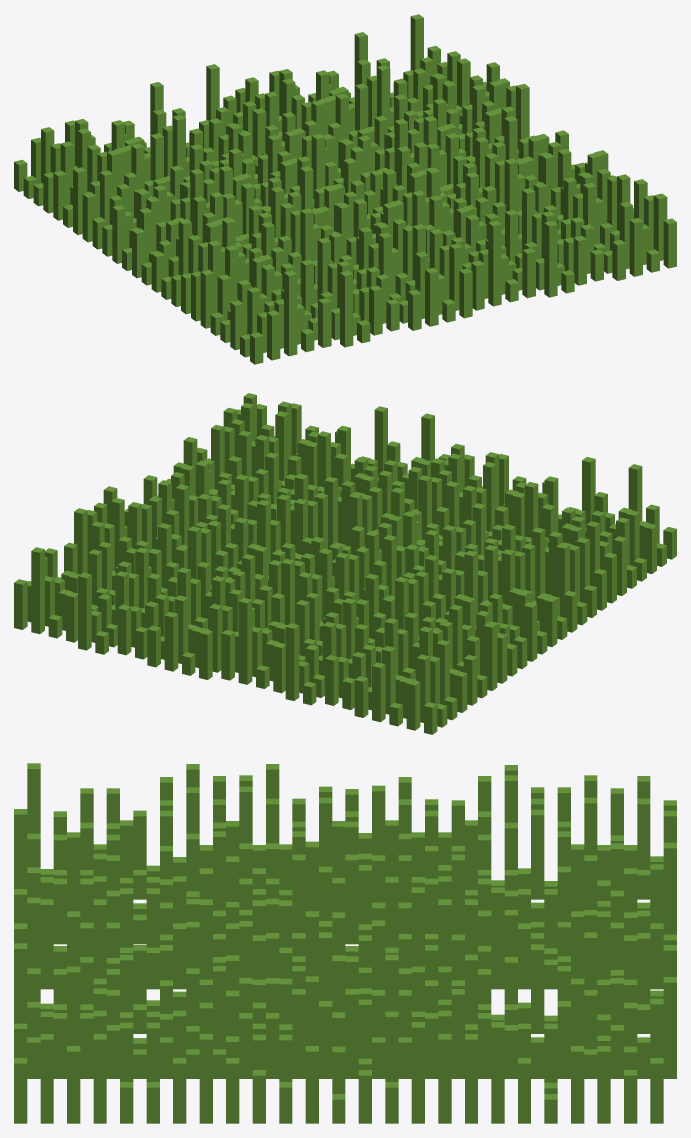
File: Plants-2-Grass 1.obj
3 renders of one model, top to bottom at view 1: azimuth 30°, elevation 25°; view 2: azimuth 150°, elevation 25°; view 3: azimuth 270°, elevation 25°, orthographic. The views are drawn at different scales.
Visible parts, largest first — view 1: Grass 1; view 2: Grass 1; view 3: Grass 1.
Boxes of the visible parts, x1=… form: Grass 1: x1=14, y1=14, x2=676, y2=364; Grass 1: x1=14, y1=393, x2=676, y2=734; Grass 1: x1=14, y1=763, x2=676, y2=1123.
Bounding box in the file's own units: 4.9 × 0.9 × 5.
1 material, 1 textured.
